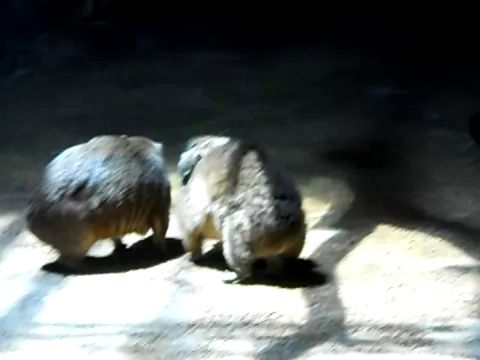Rock Hyrex: (176, 133, 307, 285), (26, 134, 169, 267)
